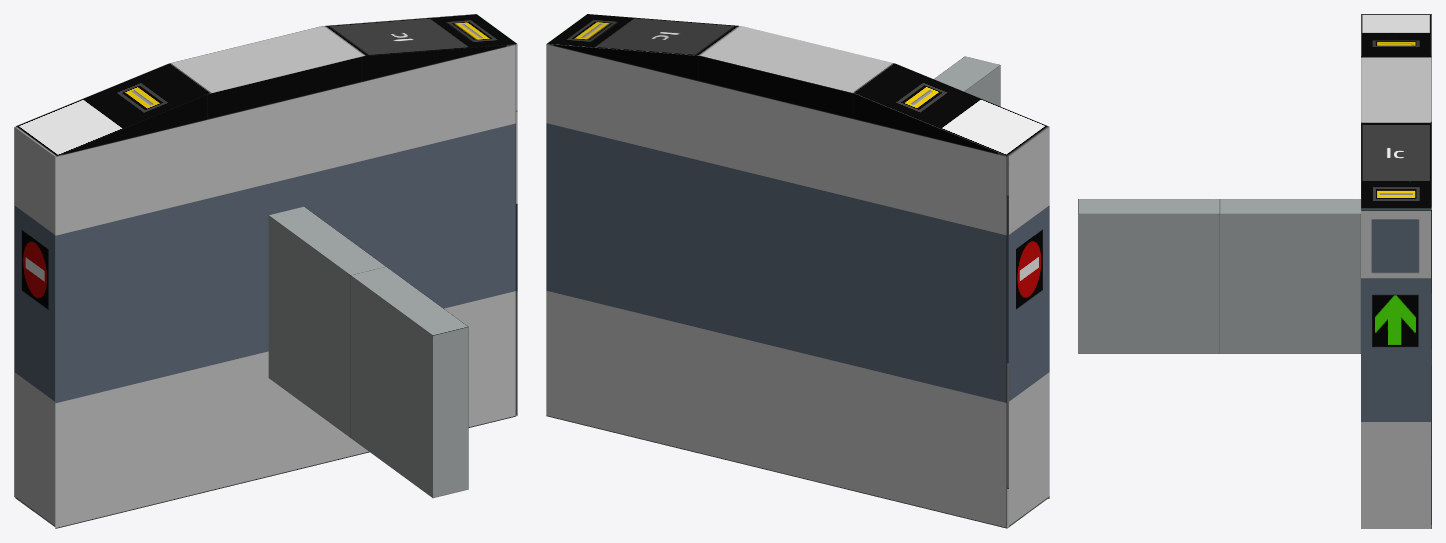
Rendered from turnstile_c.obj.
3 views of the same model, side by side, from view 1: azimuth 30°, elevation 25°; view 2: azimuth 150°, elevation 25°; view 3: azimuth 270°, elevation 25° (orthographic). The views are drawn at different scales.
Visible parts, largest first — view 1: machine_machine_cube_machine_machine_cube_Material.001, door_left_door_left_cube_door_left_door_left_cube_None, door_right_door_right_cube_door_right_door_right_cube_None; view 2: machine_machine_cube_machine_machine_cube_Material.001, door_left_door_left_cube_door_left_door_left_cube_None; view 3: machine_machine_cube_machine_machine_cube_Material.001, door_left_door_left_cube_door_left_door_left_cube_None, door_right_door_right_cube_door_right_door_right_cube_None.
Part boxes in pixels (box(x1,y1,x2,y2)): machine_machine_cube_machine_machine_cube_Material.001: box(14, 14, 517, 528); door_left_door_left_cube_door_left_door_left_cube_None: box(351, 266, 468, 498); door_right_door_right_cube_door_right_door_right_cube_None: box(268, 206, 385, 437); machine_machine_cube_machine_machine_cube_Material.001: box(546, 14, 1049, 528); door_left_door_left_cube_door_left_door_left_cube_None: box(934, 56, 1000, 106); machine_machine_cube_machine_machine_cube_Material.001: box(1361, 14, 1431, 528); door_left_door_left_cube_door_left_door_left_cube_None: box(1078, 199, 1219, 353); door_right_door_right_cube_door_right_door_right_cube_None: box(1219, 199, 1360, 353).
Size of the model in its own units: 1.3 by 1.07 by 1.
